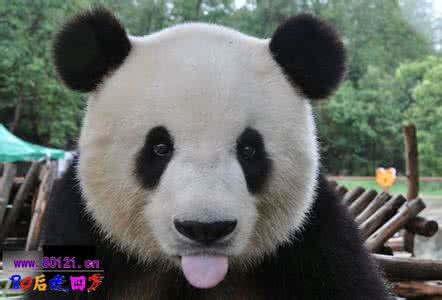panda: (13, 8, 400, 300)
